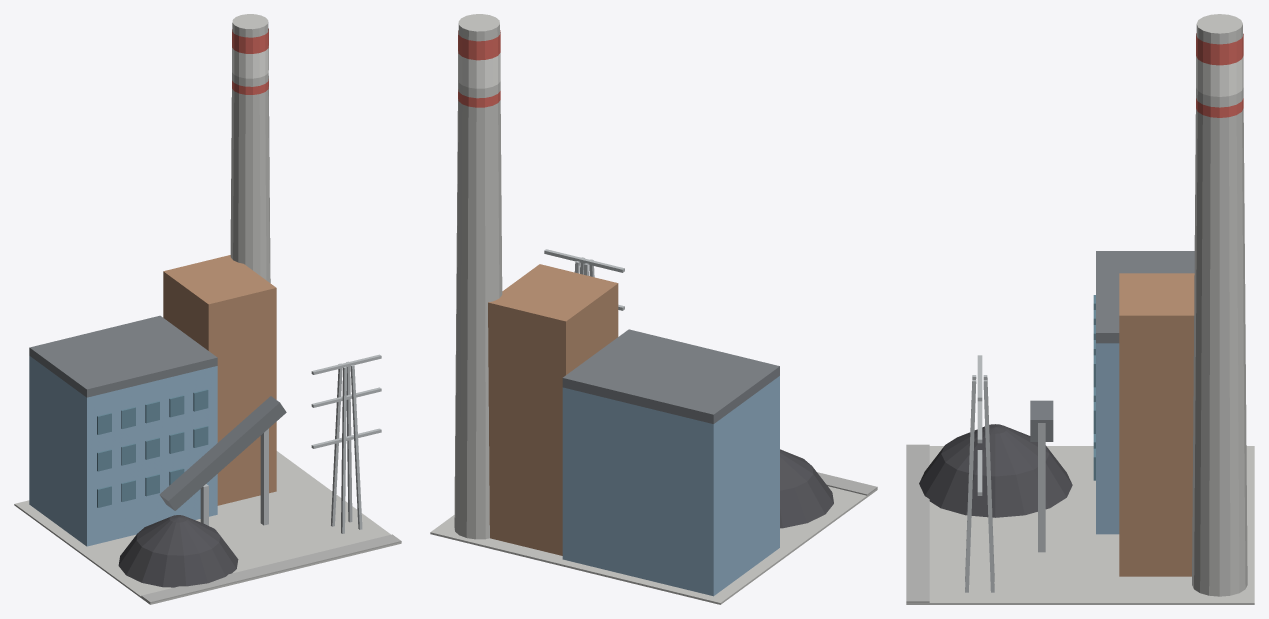
Rendered from coal-power.fbx.
The picture shows the model from 3 angles, left to right: view 1: azimuth 30°, elevation 25°; view 2: azimuth 150°, elevation 25°; view 3: azimuth 270°, elevation 25°; orthographic projection. The views are drawn at different scales.
Parts seen in each view (by area): view 1: coal-power; view 2: coal-power; view 3: coal-power.
Part boxes in pixels (bbox=[...]): coal-power: bbox=[14, 14, 401, 604]; coal-power: bbox=[430, 14, 877, 604]; coal-power: bbox=[906, 14, 1254, 604].
Bounding box in the file's own units: 990 × 1606 × 900.
